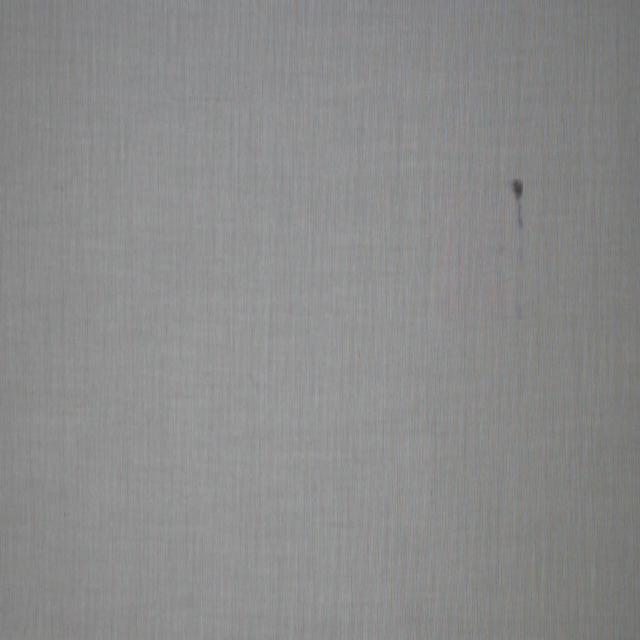dirty: (512, 178, 527, 231)
